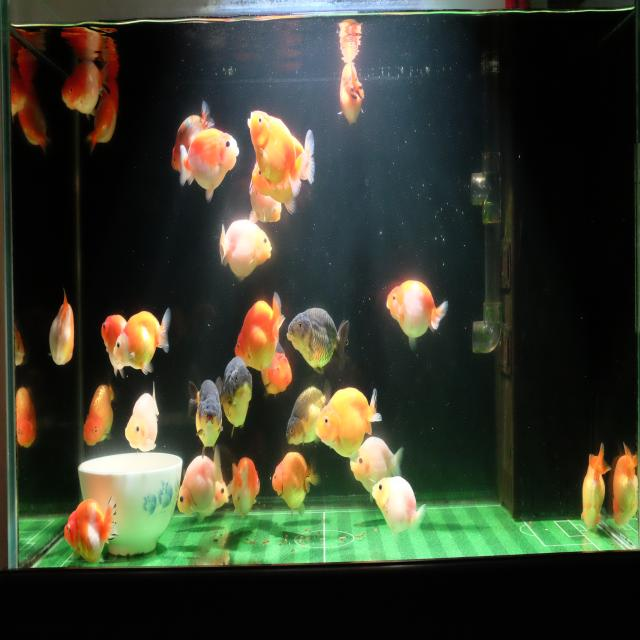Tilapia: (251, 129, 316, 215), (246, 107, 306, 199), (314, 386, 383, 464), (386, 278, 449, 352), (286, 305, 350, 377), (179, 128, 239, 203), (112, 304, 173, 376), (233, 289, 285, 372), (63, 493, 119, 564), (370, 478, 430, 538), (176, 443, 224, 518), (348, 434, 406, 496), (170, 100, 216, 174), (60, 58, 114, 121), (215, 354, 254, 439), (271, 450, 319, 517), (186, 375, 223, 458), (285, 380, 331, 446), (580, 440, 612, 533), (85, 78, 121, 154), (611, 440, 639, 533), (124, 381, 160, 453), (258, 332, 293, 402), (47, 285, 76, 369), (82, 382, 118, 448), (226, 454, 261, 520), (337, 62, 366, 131), (100, 313, 128, 378), (15, 387, 38, 450)
